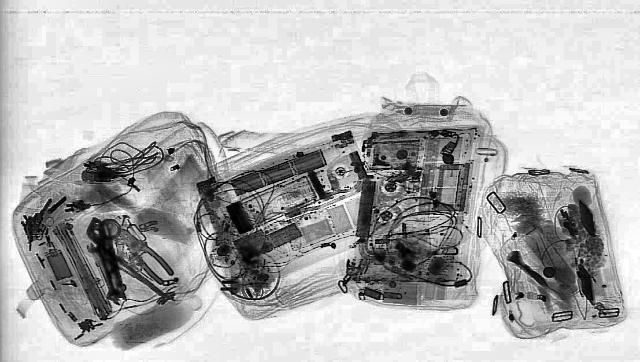Pliers: (106, 226, 182, 284)
Wrench: (82, 240, 134, 304)
